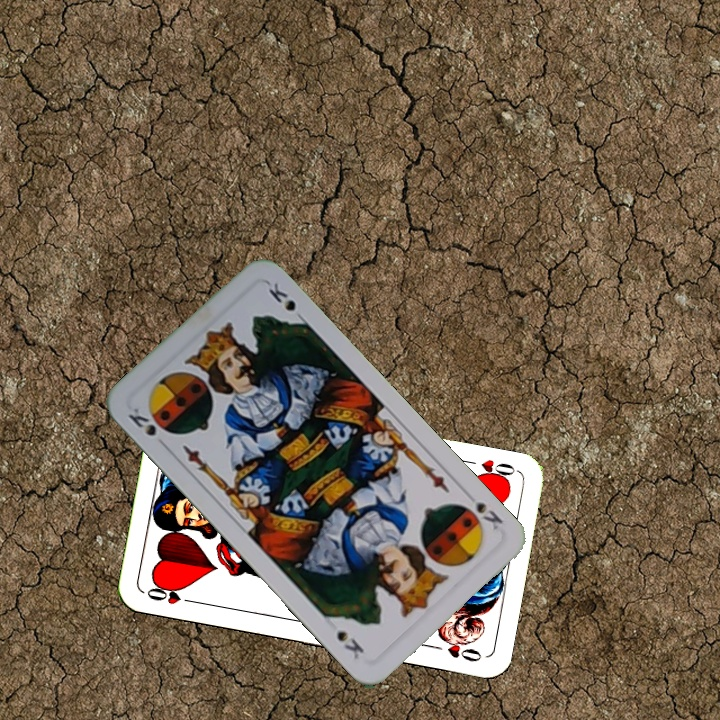HO: (460, 455, 519, 485), (142, 582, 200, 607)
SK: (124, 403, 170, 451), (471, 497, 506, 533)
